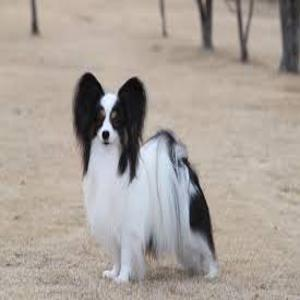yell: (72, 72, 218, 282)
